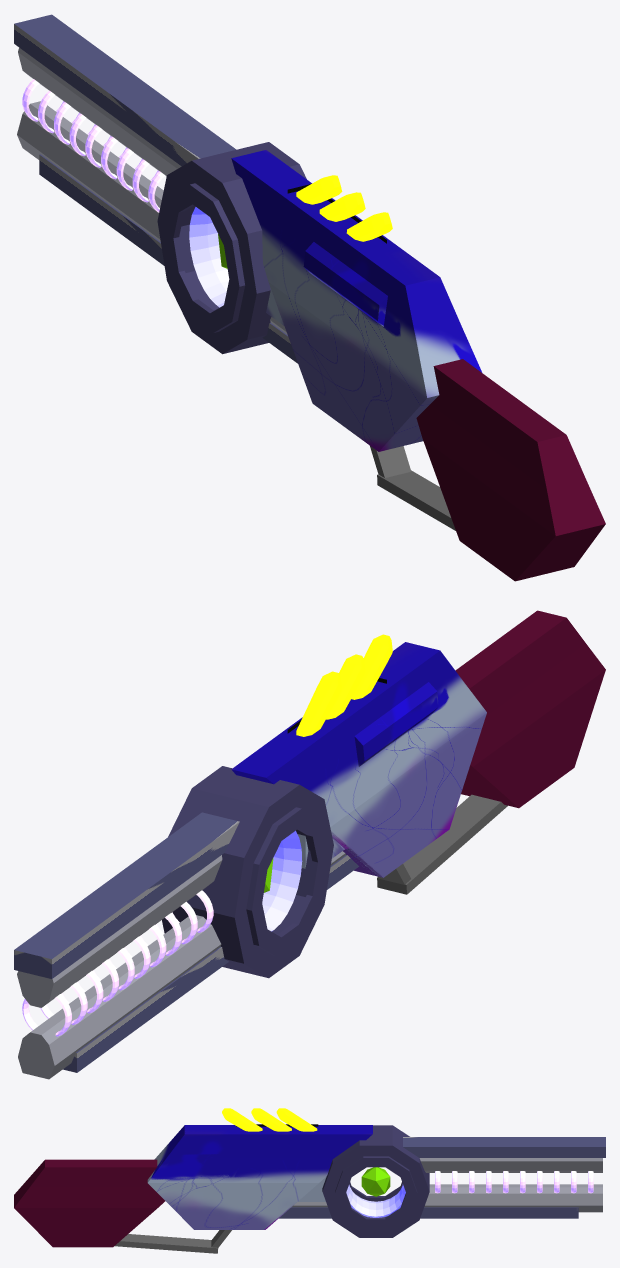
Rendered from PlasmaGun1.glb.
3 renders of one model, top to bottom at view 1: azimuth 30°, elevation 25°; view 2: azimuth 150°, elevation 25°; view 3: azimuth 270°, elevation 25°, orthographic. The views are drawn at different scales.
Visible parts, largest first — view 1: Crystals; view 2: Crystals; view 3: Crystals.
Part boxes in pixels (left/top/right/bottom): Crystals: left=14, top=14, right=605, bottom=581; Crystals: left=14, top=610, right=605, bottom=1079; Crystals: left=14, top=1108, right=605, bottom=1253.
Bounding box in the file's own units: 6.71 × 18.81 × 71.75.
Materials: 10 (2 with a texture image).
